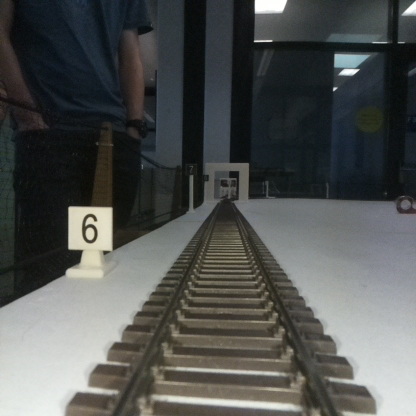black-info-7: (186, 163, 197, 211)
white-stop-6: (68, 206, 112, 275)
